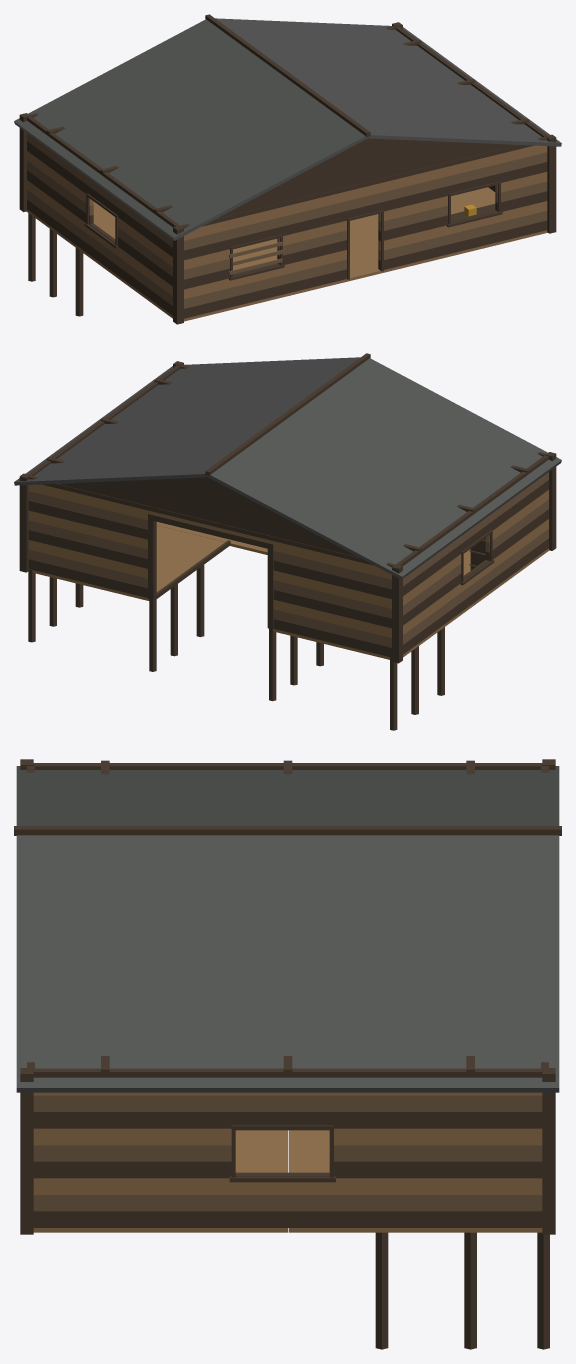
File: boathouse.glb
3 views of the same model, one above another, from view 1: azimuth 30°, elevation 25°; view 2: azimuth 150°, elevation 25°; view 3: azimuth 270°, elevation 25° (orthographic). The views are drawn at different scales.
Visible parts, largest first — view 1: boathouse; view 2: boathouse; view 3: boathouse.
Boxes of the visible parts, <box> form: boathouse: <box>14,14,561,324</box>; boathouse: <box>14,353,561,730</box>; boathouse: <box>14,759,561,1349</box>.
Size of what is drawn, in the model's own units: 14.6 by 7.8 by 10.5.
1 material, 1 textured.
